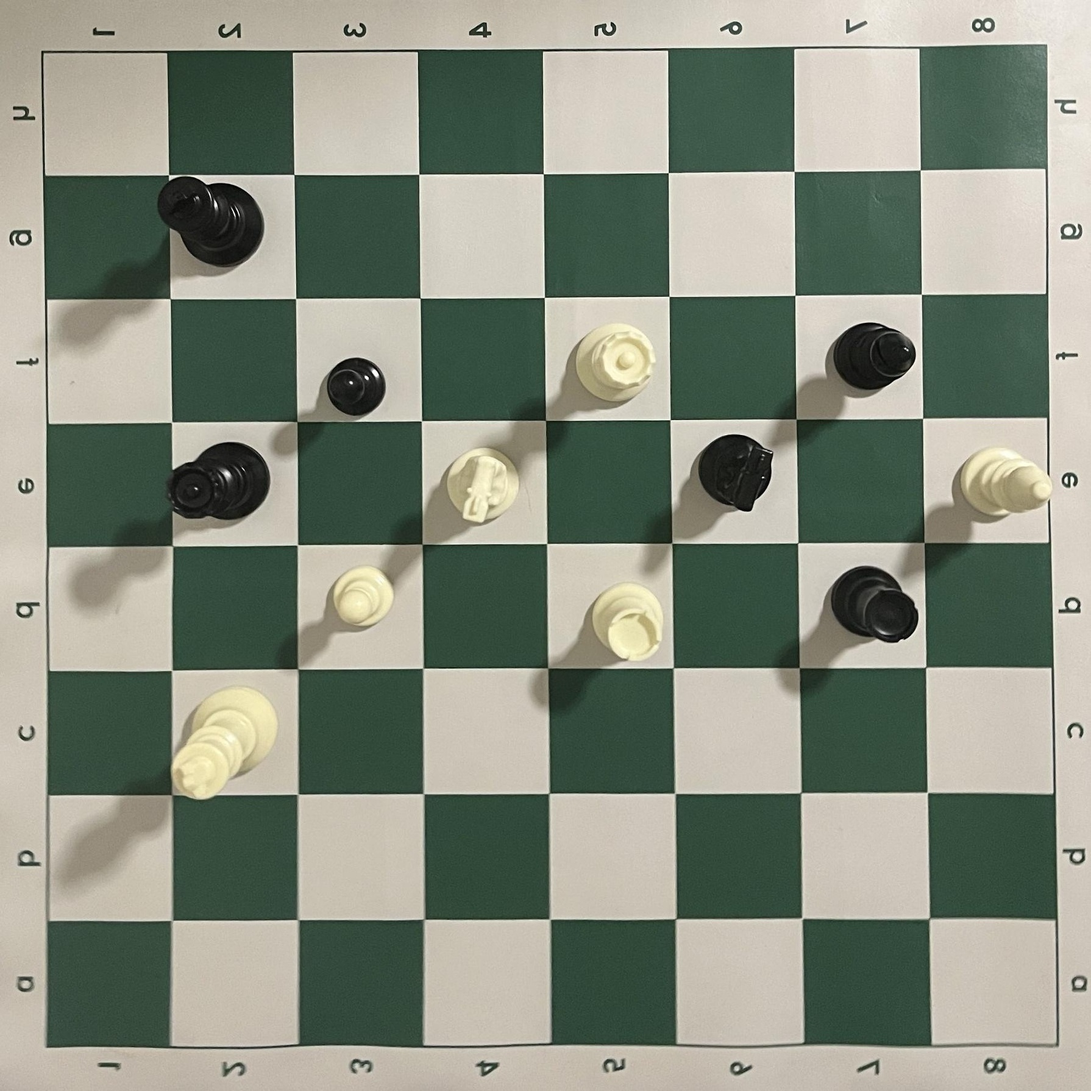black_bishop: (831, 322, 917, 391)
black_king: (157, 175, 265, 268)
black_knight: (698, 434, 773, 511)
black_pawn: (327, 357, 386, 417)
black_queen: (165, 441, 271, 522)
black_rook: (831, 566, 922, 643)
white_bishop: (958, 446, 1053, 518)
white_king: (171, 684, 280, 801)
white_knight: (446, 447, 519, 525)
white_pawn: (332, 565, 394, 628)
white_queen: (575, 322, 656, 402)
white_rook: (589, 581, 665, 662)
